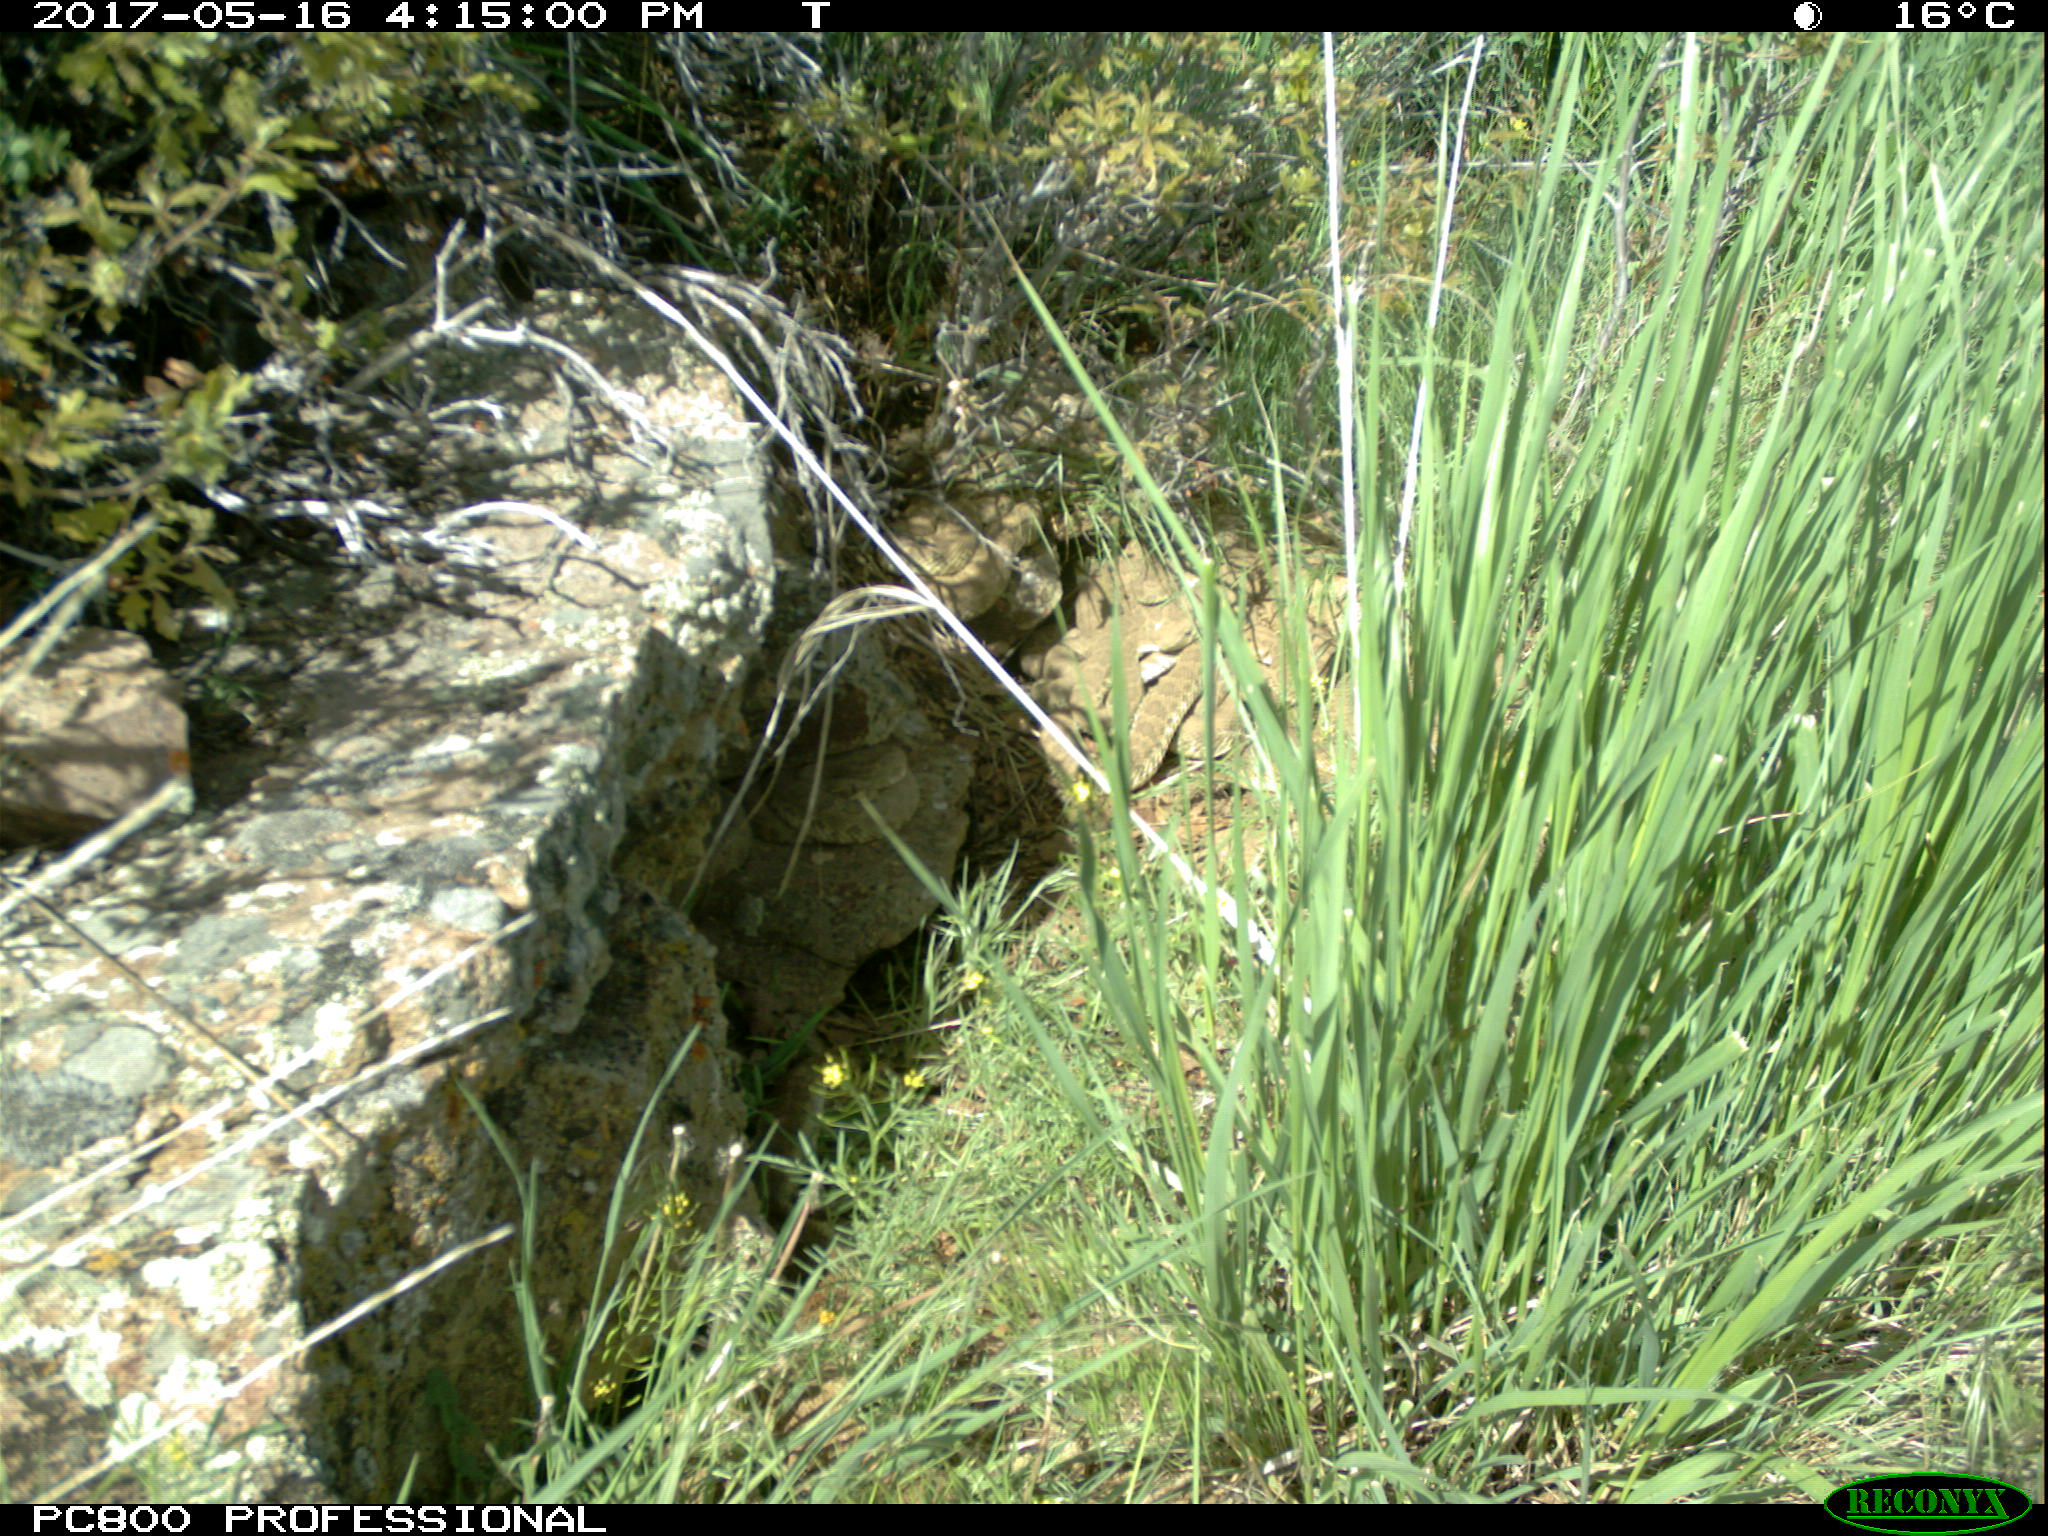snake: (868, 492, 1053, 626), (1077, 557, 1180, 797), (742, 744, 918, 839)
